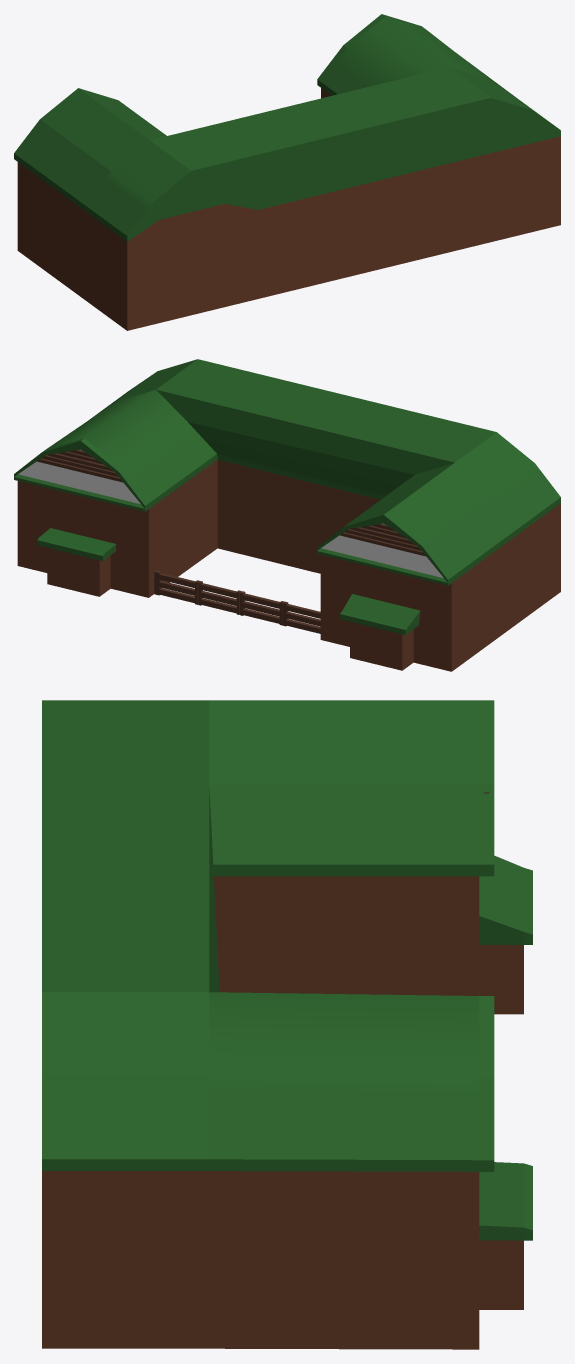
The model's file is fermev.2.fbx.
The picture shows the model from 3 angles, top to bottom: view 1: azimuth 30°, elevation 25°; view 2: azimuth 150°, elevation 25°; view 3: azimuth 270°, elevation 25°; orthographic projection. The views are drawn at different scales.
Parts seen in each view (by area): view 1: ferme1; view 2: ferme1; view 3: ferme1.
Part boxes in pixels (<box>): ferme1: <box>14,14,560,330</box>; ferme1: <box>14,359,560,671</box>; ferme1: <box>42,700,532,1349</box>.
Size of the model in its own units: 1061 by 337 by 520.
